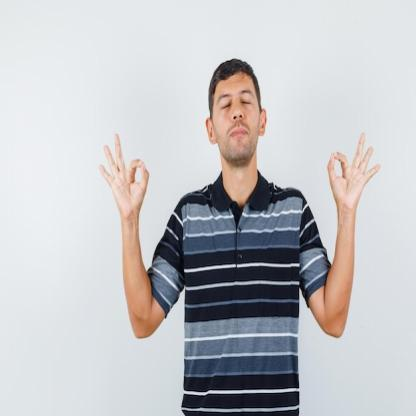ok: (95, 130, 152, 224), (326, 129, 382, 211)
